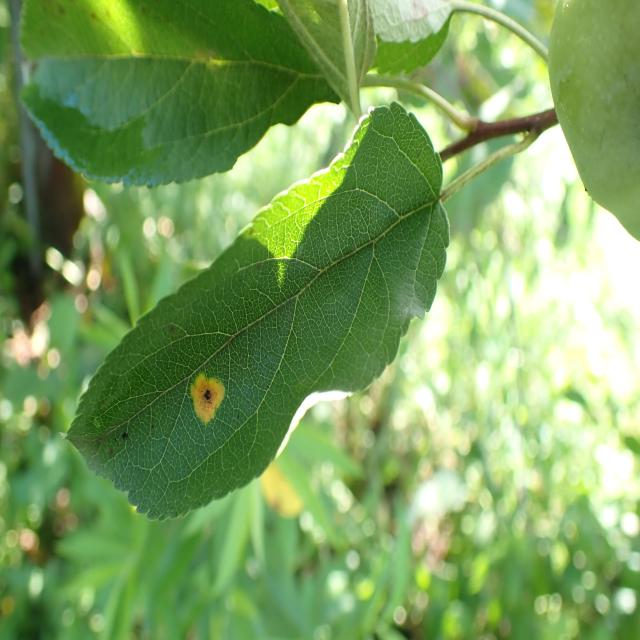Rust: (185, 352, 233, 456)
